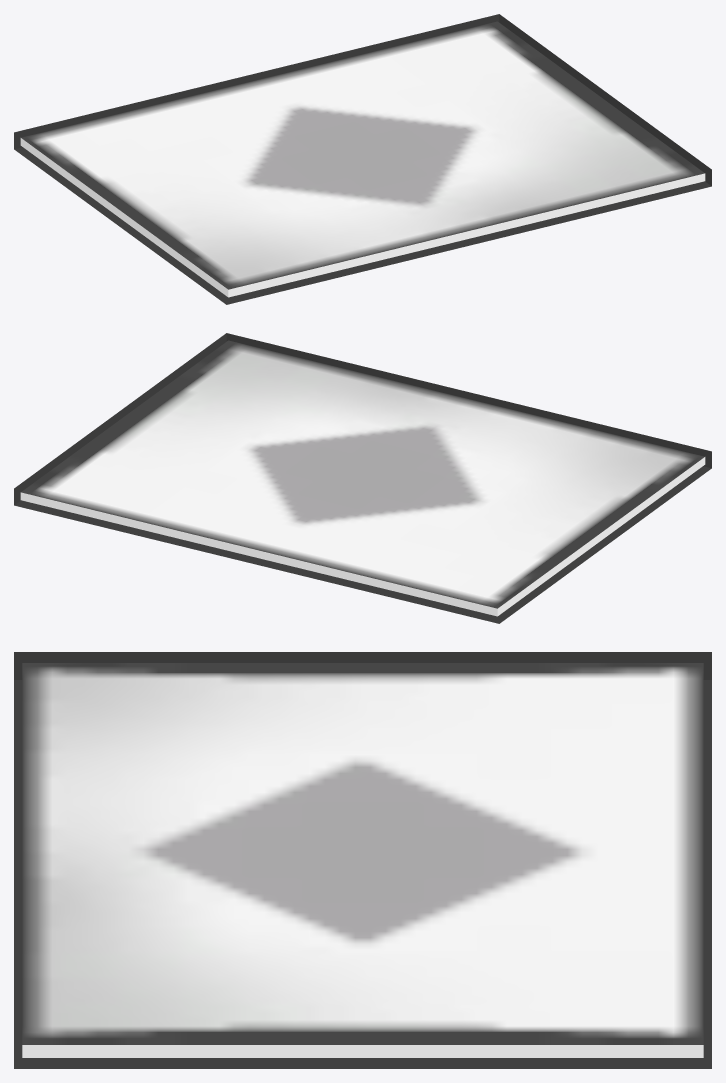
File: Building_KneelSheet.glb
The picture shows the model from 3 angles, top to bottom: view 1: azimuth 30°, elevation 25°; view 2: azimuth 150°, elevation 25°; view 3: azimuth 270°, elevation 25°; orthographic projection. The views are drawn at different scales.
Parts seen in each view (by area): view 1: KneelSheet, Outline; view 2: KneelSheet, Outline; view 3: KneelSheet, Outline.
Part boxes in pixels (x1,y1,x2,y2): KneelSheet: (20, 21, 705, 297); Outline: (14, 14, 711, 304); KneelSheet: (20, 340, 705, 616); Outline: (14, 333, 711, 623); KneelSheet: (22, 663, 703, 1057); Outline: (14, 652, 711, 1068).
Bounding box in the file's own units: 0.9704 × 0.0323 × 0.7361.
Materials: 2 (1 with a texture image).
